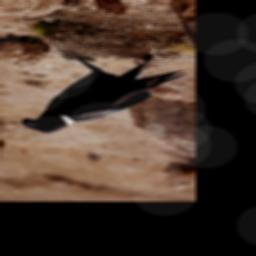Crow: (19, 45, 186, 136)
